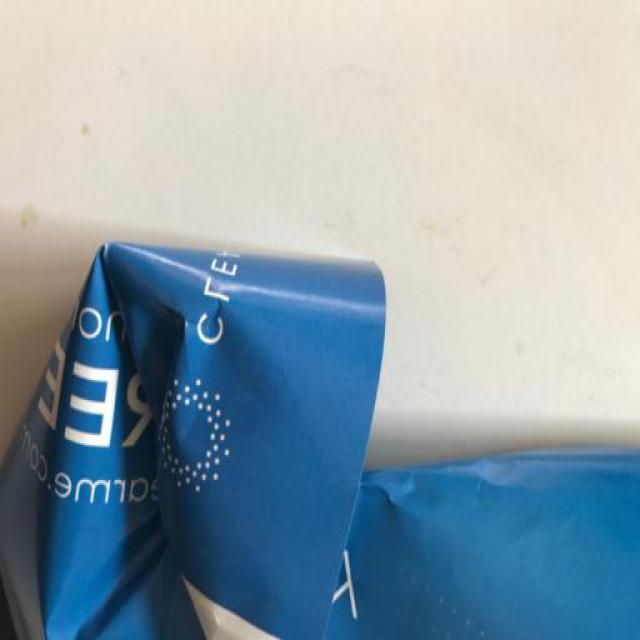paper: (25, 213, 639, 640)
